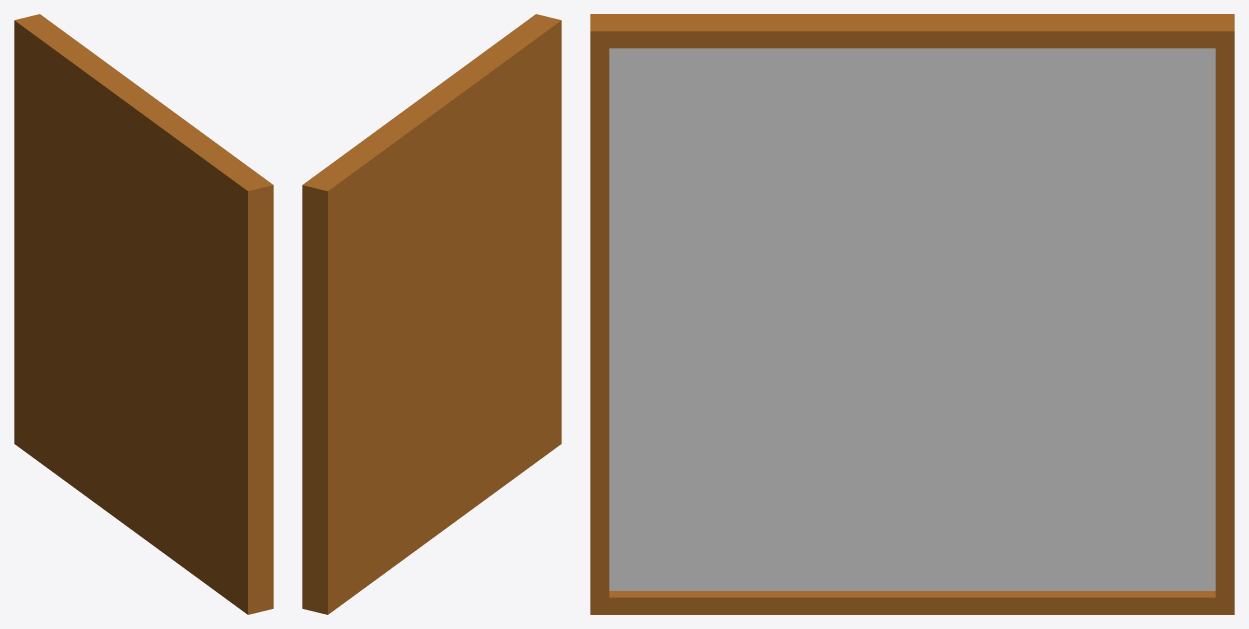
Rendered from Pitcher frame.fbx.
The picture shows the model from 3 angles, left to right: view 1: azimuth 30°, elevation 25°; view 2: azimuth 150°, elevation 25°; view 3: azimuth 270°, elevation 25°; orthographic projection. The views are drawn at different scales.
Visible parts, largest first — view 1: Cube; view 2: Cube; view 3: Cube.
Boxes of the visible parts, x1,y1,x2,y2 form: Cube: (14, 14, 273, 614); Cube: (302, 14, 561, 614); Cube: (590, 14, 1234, 614).
Bounding box in the file's own units: 12.65 × 200 × 200.
